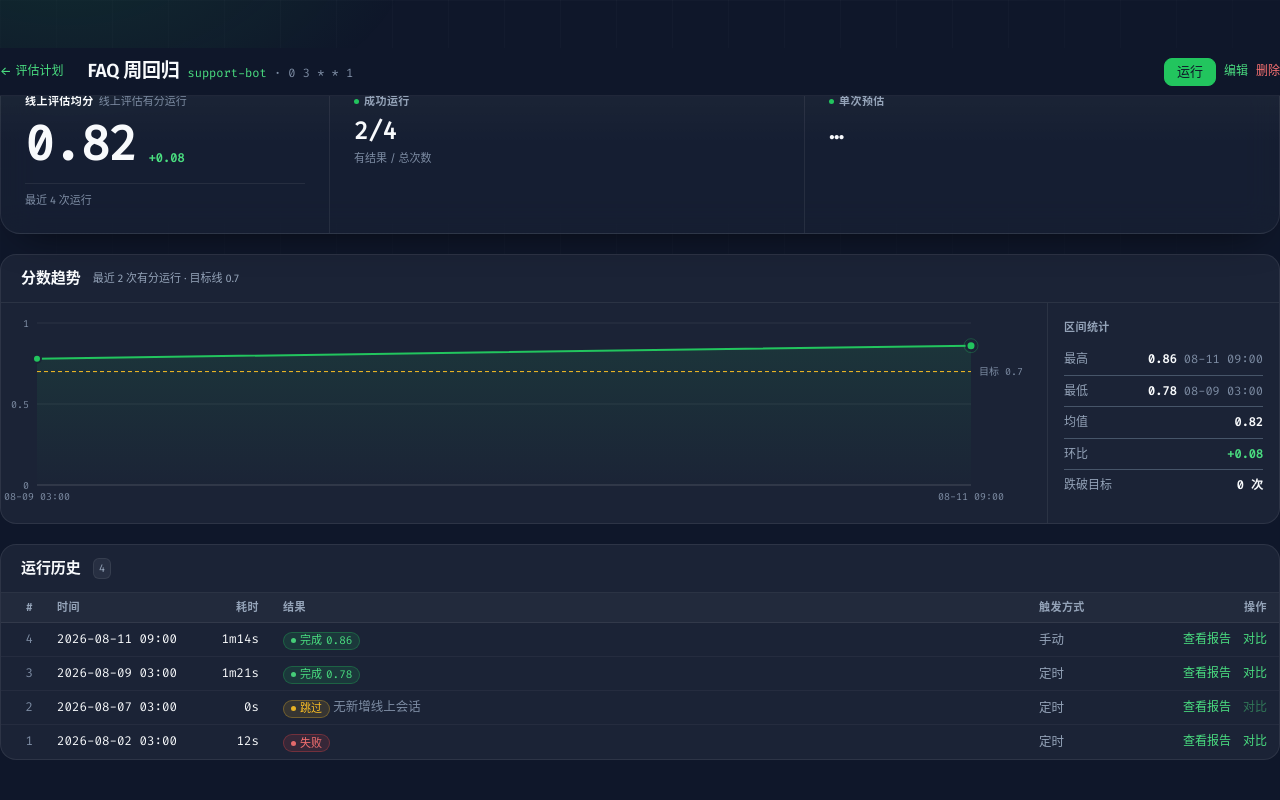
Scenario: 发起运行二次确认 › 危险花钱动作默认焦点落「取消」，取消后不发 run_plan
Expected: the text "FAQ 周回归" is shown, [88,59,180,82]
What coordinates should you click on to do the following:
click the button with test id "plan-run"
I would click on:
 (1190, 72)
Its box is [1164,58,1216,86].
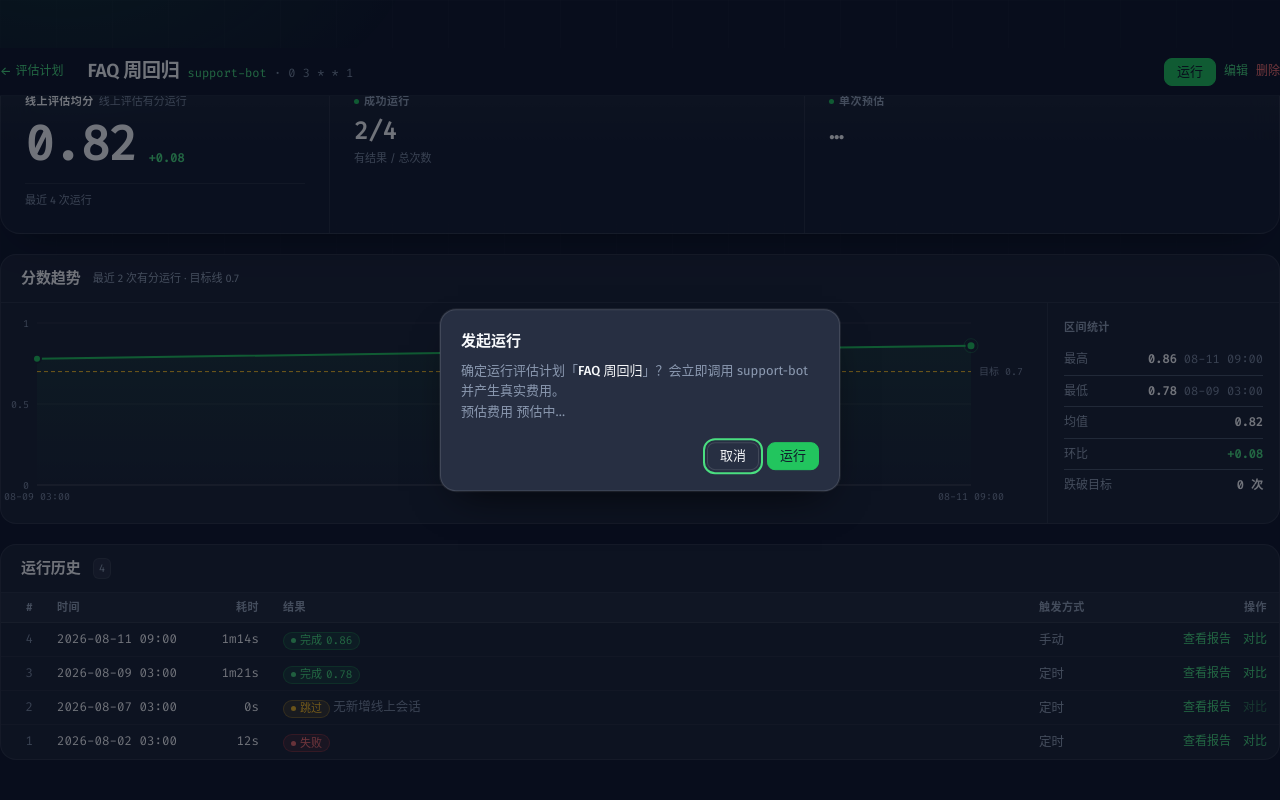
What coordinates should you click on to do the following:
click the button with test id "confirm-card-cancel"
I would click on:
 (733, 456)
Its box is [707,442,759,470].
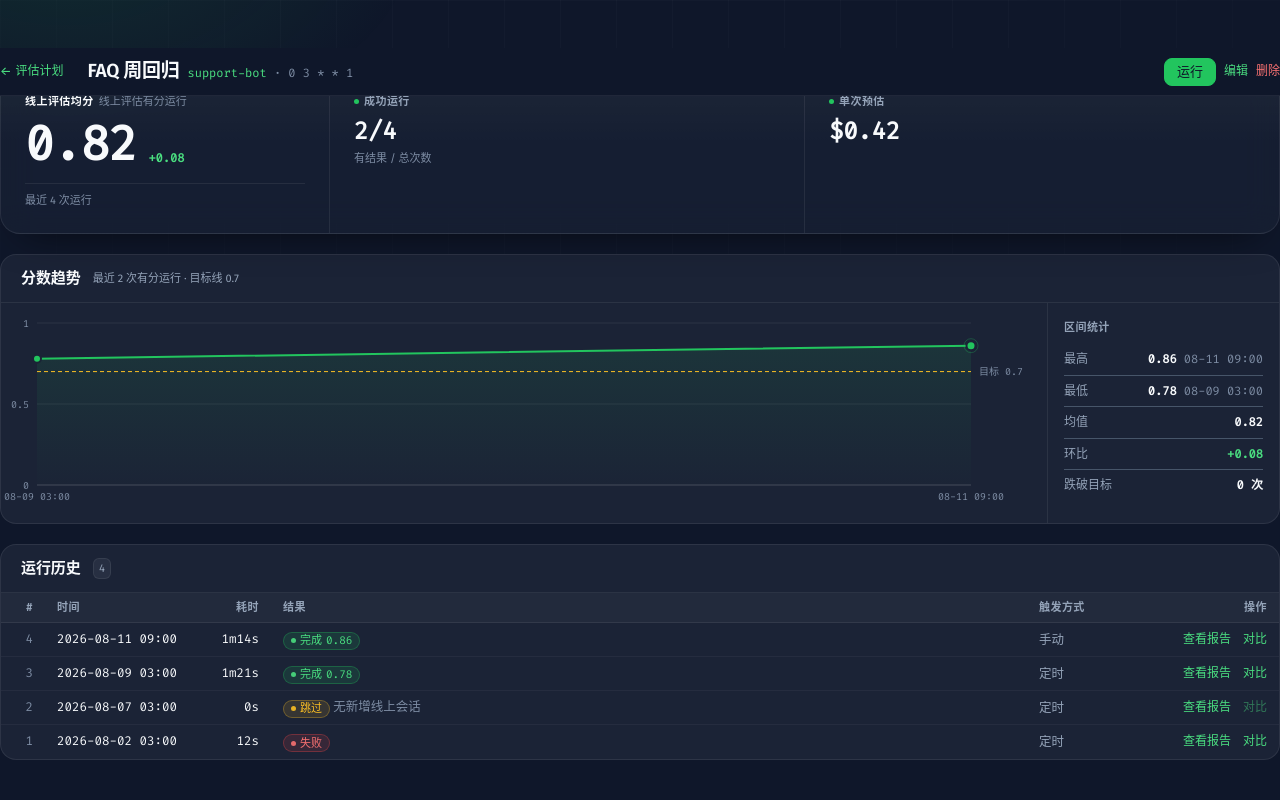
Now the dialog with test id "confirm-card" is gone
